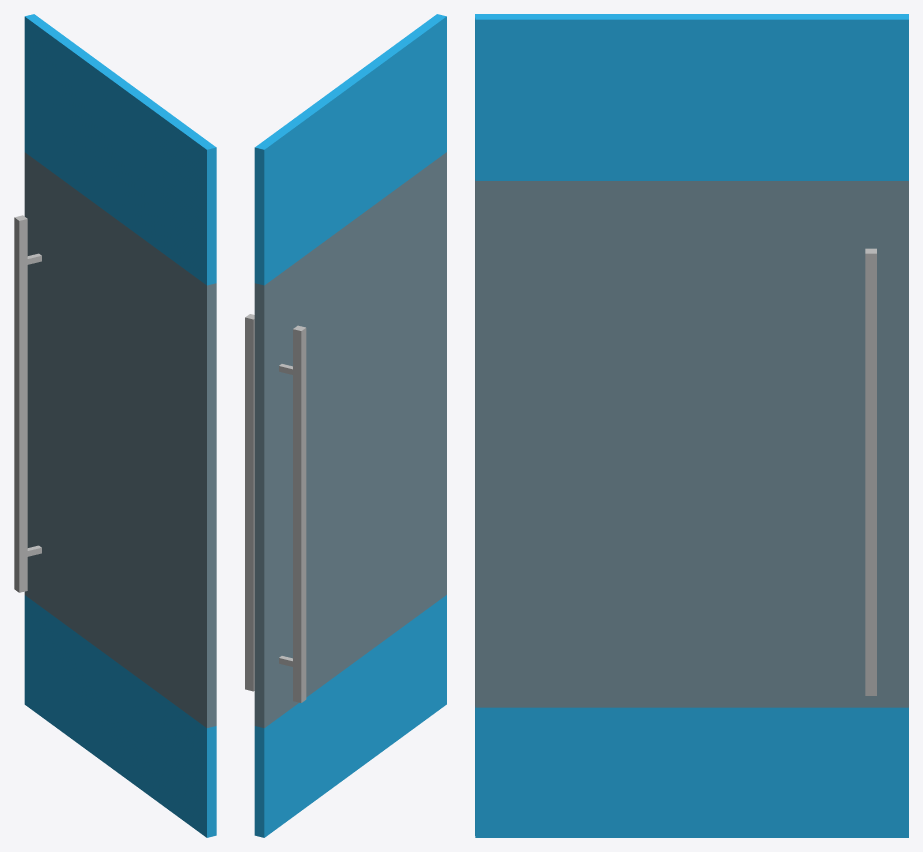
The model's file is sm_boli9.FBX.
The picture shows the model from 3 angles, left to right: view 1: azimuth 30°, elevation 25°; view 2: azimuth 150°, elevation 25°; view 3: azimuth 270°, elevation 25°; orthographic projection. The views are drawn at different scales.
Visible parts, largest first — view 1: sm_boli9; view 2: sm_boli9; view 3: sm_boli9.
Boxes of the visible parts, bbox=[...] form: sm_boli9: bbox=[14, 14, 216, 837]; sm_boli9: bbox=[245, 14, 446, 837]; sm_boli9: bbox=[475, 14, 908, 837].
Bounding box in the file's own units: 20.79 × 243 × 117.
